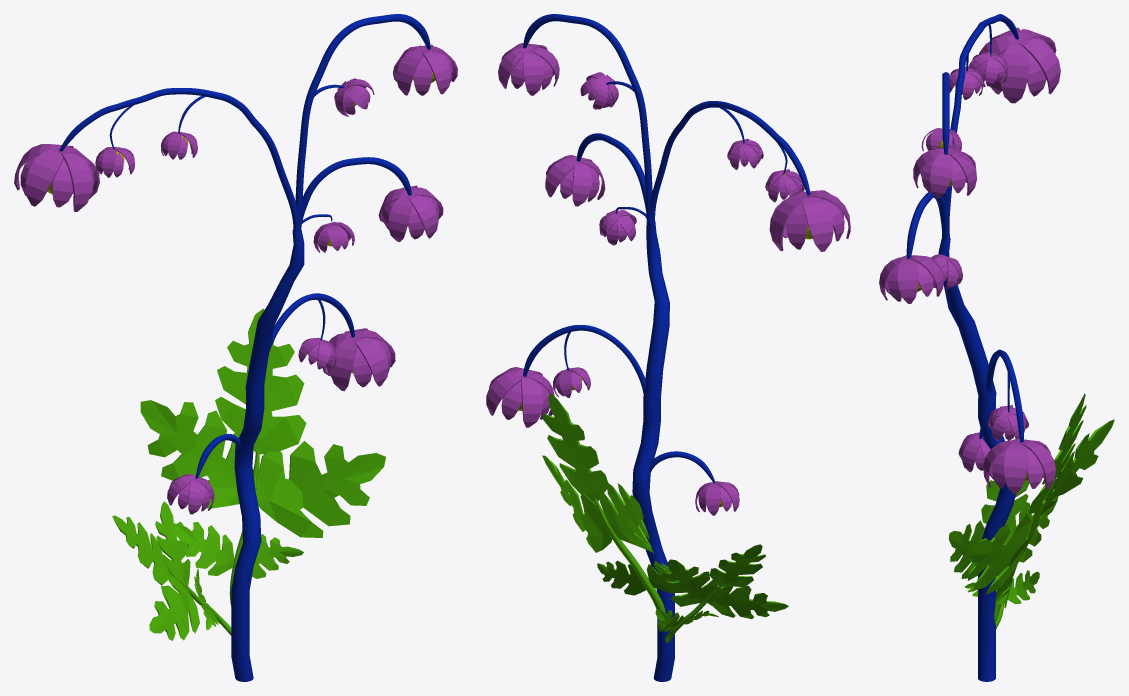
File: lily.fbx
3 views of the same model, side by side, from view 1: azimuth 30°, elevation 25°; view 2: azimuth 150°, elevation 25°; view 3: azimuth 270°, elevation 25° (orthographic). The views are drawn at different scales.
Visible parts, largest first — view 1: leaf1, branch, leaf2, petals1, petals12, petals8, petals16, petals7, petals17, petals5, petals19, petals10 (+2 smaller); view 2: branch, leaf1, leaf2, petals1, petals12, petals16, petals8, petals17, petals7, petals19, petals4, petals5 (+5 smaller); view 3: branch, leaf1, leaf2, petals1, petals12, petals16, petals8, petals19, petals18, petals17, petals15, petals7 (+5 smaller).
Boxes of the visible parts, box(x1,y1,x2,y2) form: leaf1: box(140, 308, 385, 606); branch: box(59, 14, 430, 681); leaf2: box(112, 501, 231, 640); petals1: box(14, 144, 99, 211); petals12: box(322, 328, 395, 391); petals8: box(378, 185, 443, 241); petals16: box(393, 44, 457, 95); petals7: box(167, 473, 214, 514); petals17: box(20, 155, 94, 207); petals5: box(335, 78, 374, 116); petals19: box(326, 339, 391, 387); petals10: box(395, 45, 453, 95); branch: box(523, 14, 810, 681); leaf1: box(542, 393, 678, 631); leaf2: box(655, 544, 788, 642); petals1: box(769, 190, 850, 251); petals12: box(486, 367, 554, 427); petals16: box(498, 43, 559, 95); petals8: box(545, 155, 605, 206); petals17: box(786, 199, 844, 249); petals7: box(695, 481, 739, 515); petals19: box(494, 377, 549, 419); petals4: box(599, 209, 636, 245); petals5: box(580, 72, 618, 109); branch: box(906, 14, 1023, 681); leaf1: box(967, 393, 1114, 624); leaf2: box(948, 480, 1058, 629); petals1: box(979, 27, 1060, 103); petals12: box(983, 438, 1055, 494); petals16: box(913, 146, 977, 198); petals8: box(879, 255, 943, 303); petals19: box(989, 449, 1043, 488); petals18: box(987, 405, 1028, 440); petals17: box(990, 38, 1050, 96); petals15: box(885, 259, 933, 301); petals7: box(958, 432, 990, 472).
Size of the model in its own units: 25.14 by 39.49 by 12.97.
